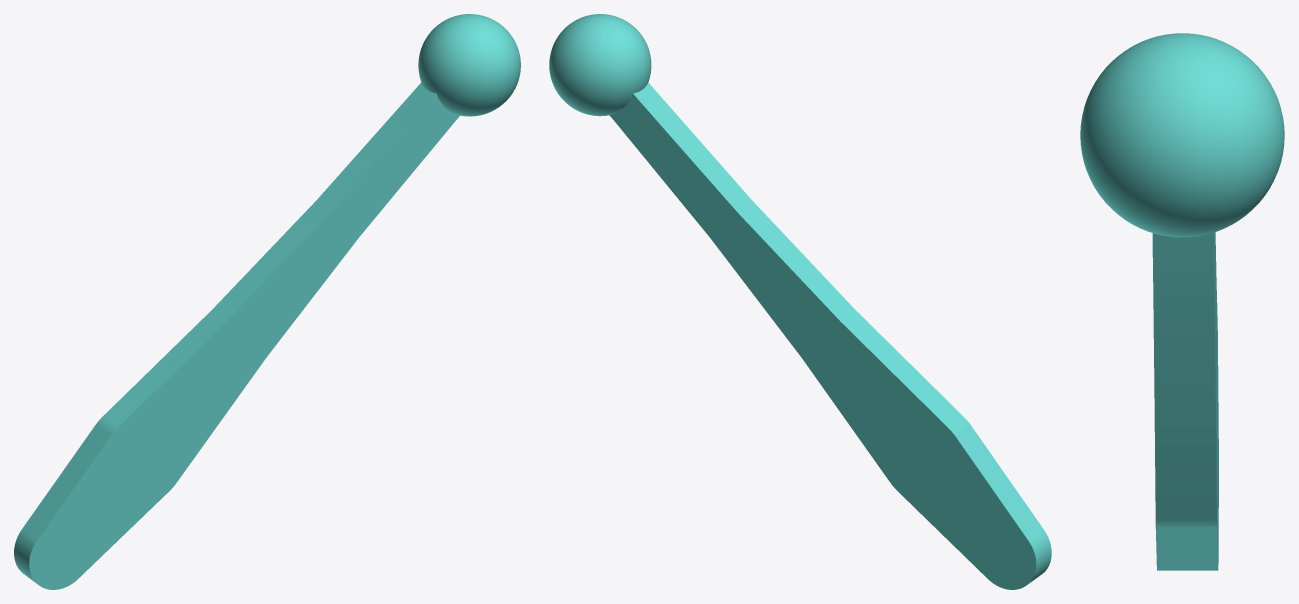
Rendered from _MudPDoCUz0k_u1fjV.gltf.
3 views of the same model, side by side, from view 1: azimuth 30°, elevation 25°; view 2: azimuth 150°, elevation 25°; view 3: azimuth 270°, elevation 25° (orthographic). The views are drawn at different scales.
Parts seen in each view (by area): view 1: Tibula; view 2: Tibula; view 3: Tibula.
Part boxes in pixels (<box>): Tibula: <box>14,14,520,589</box>; Tibula: <box>549,14,1051,589</box>; Tibula: <box>1080,33,1284,570</box>.
Bounding box in the file's own units: 0.1106 × 0.0999 × 0.02.
